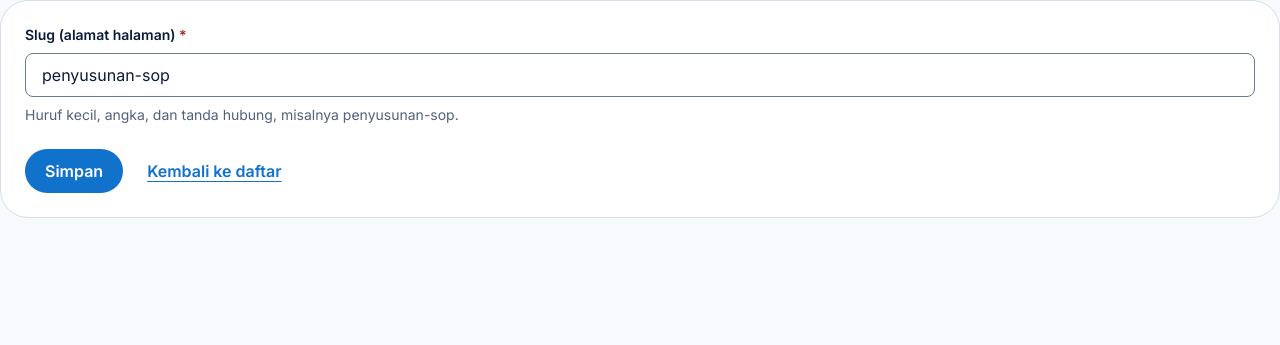
Test: slug field › keeps warning after a failed save, comparing against the stored slug
Type "-baru" into the field labelled "Slug (alamat halaman) *".
click(640, 75); type("-baru")  # box [25,53,1255,97]
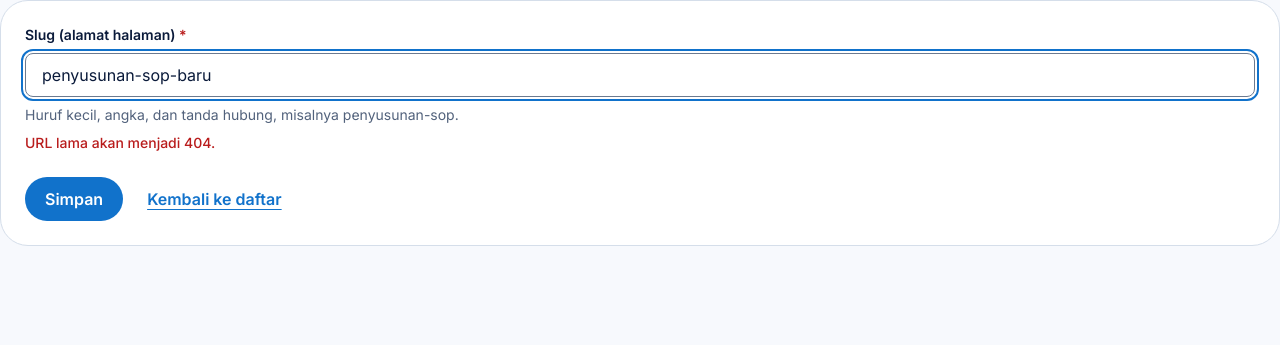
Click the button "Simpan".
click(74, 199)  # box [25,177,123,221]
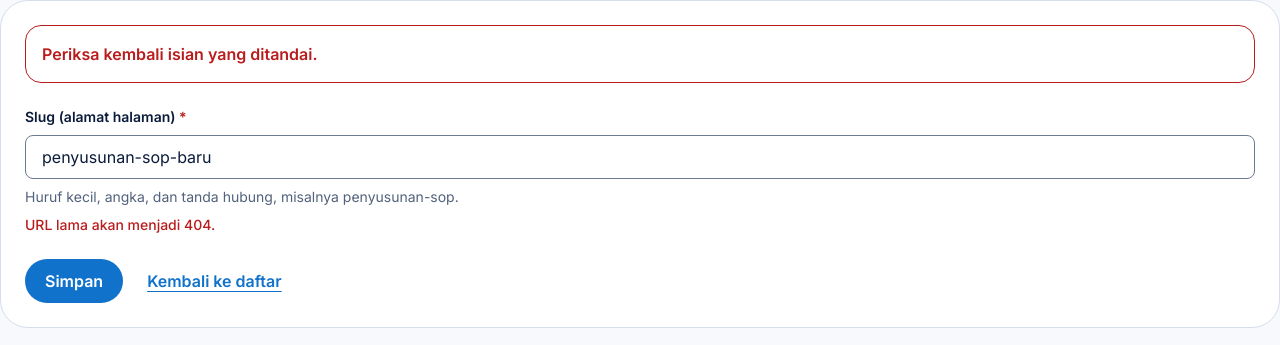
Expected: the field labelled "Slug (alamat halaman) *" holds "penyusunan-sop-baru", [25,135,1255,179]
Expected: the text "URL lama akan menjadi 404." is shown, [25,216,215,233]
Expected: the text "Periksa kembali isian yang ditandai." is shown, [42,44,318,64]
